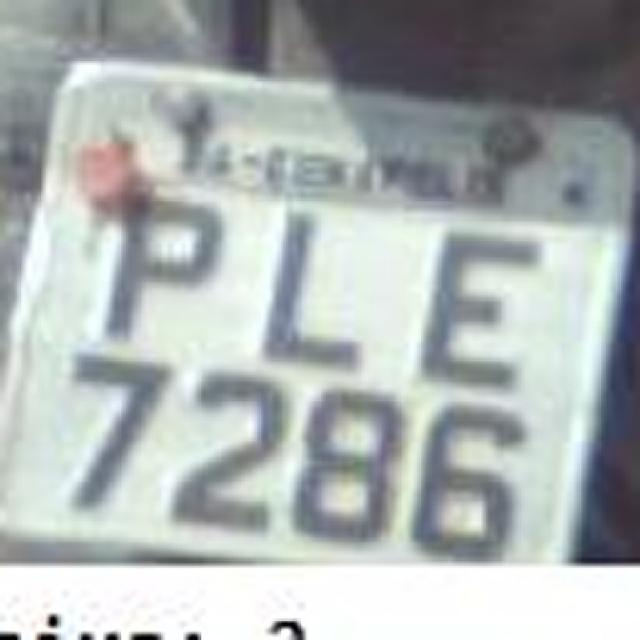2: (160, 368, 320, 552)
6: (400, 365, 565, 560)
7: (44, 356, 188, 544)
8: (285, 360, 440, 560)
E: (412, 200, 536, 380)
P: (72, 189, 220, 376)
